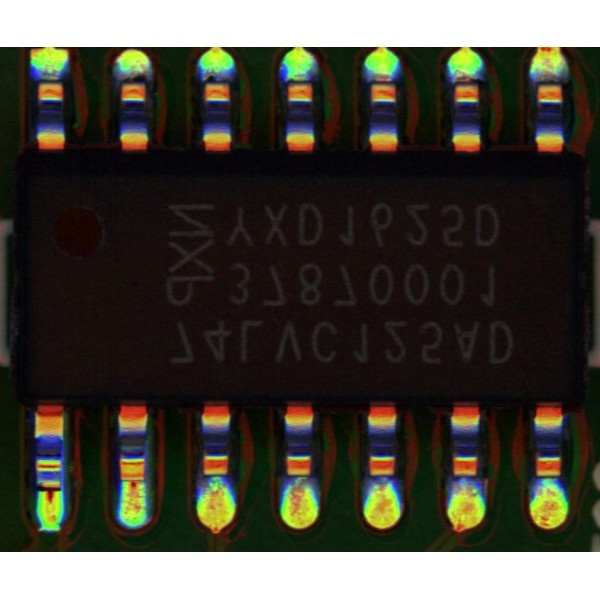Bad_podu: (41, 475, 59, 504), (128, 468, 142, 497)
